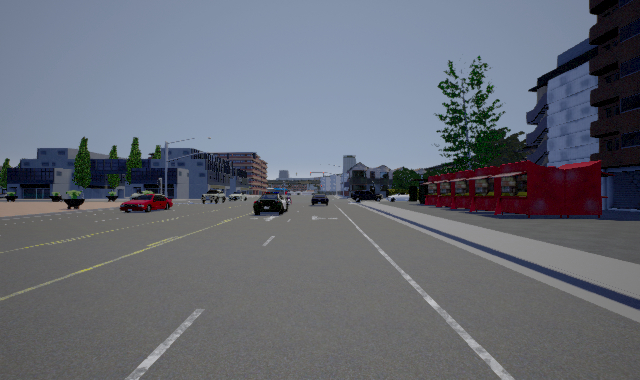vehicle: (119, 192, 173, 213), (253, 192, 291, 215), (201, 189, 226, 204), (310, 192, 329, 205), (227, 191, 248, 202)
